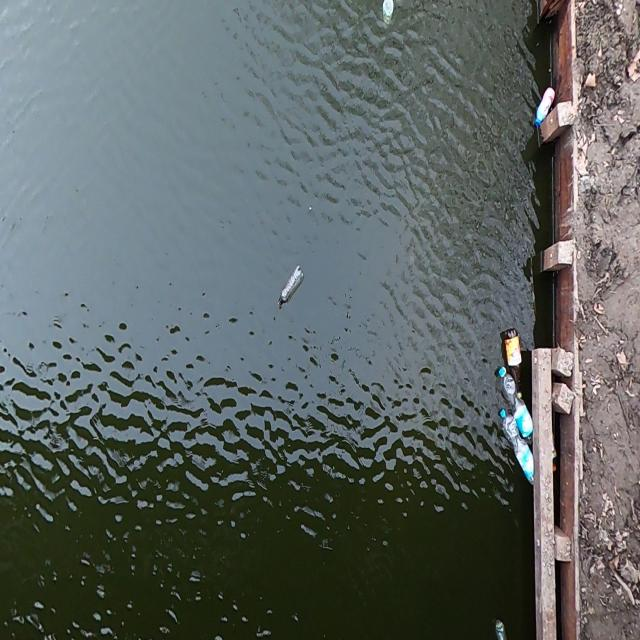Bouteille plastique: (496, 397, 536, 499), (492, 357, 532, 446), (496, 311, 527, 405), (279, 257, 310, 312), (531, 84, 556, 130)
